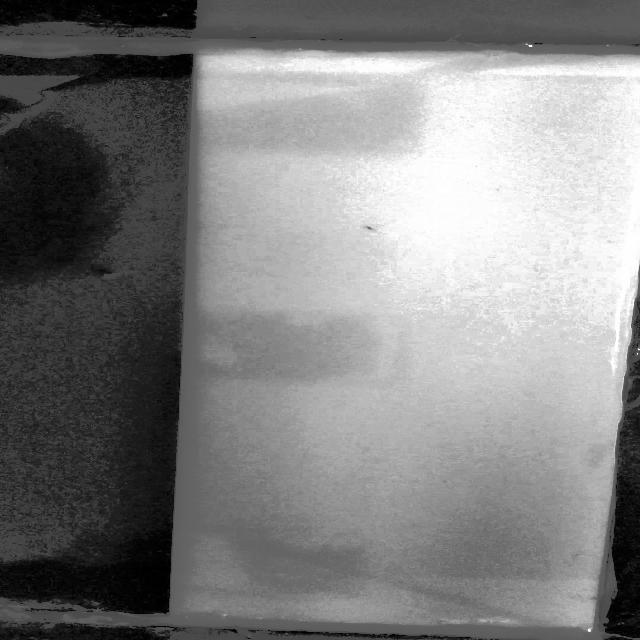shrimp: (363, 222, 386, 235)
